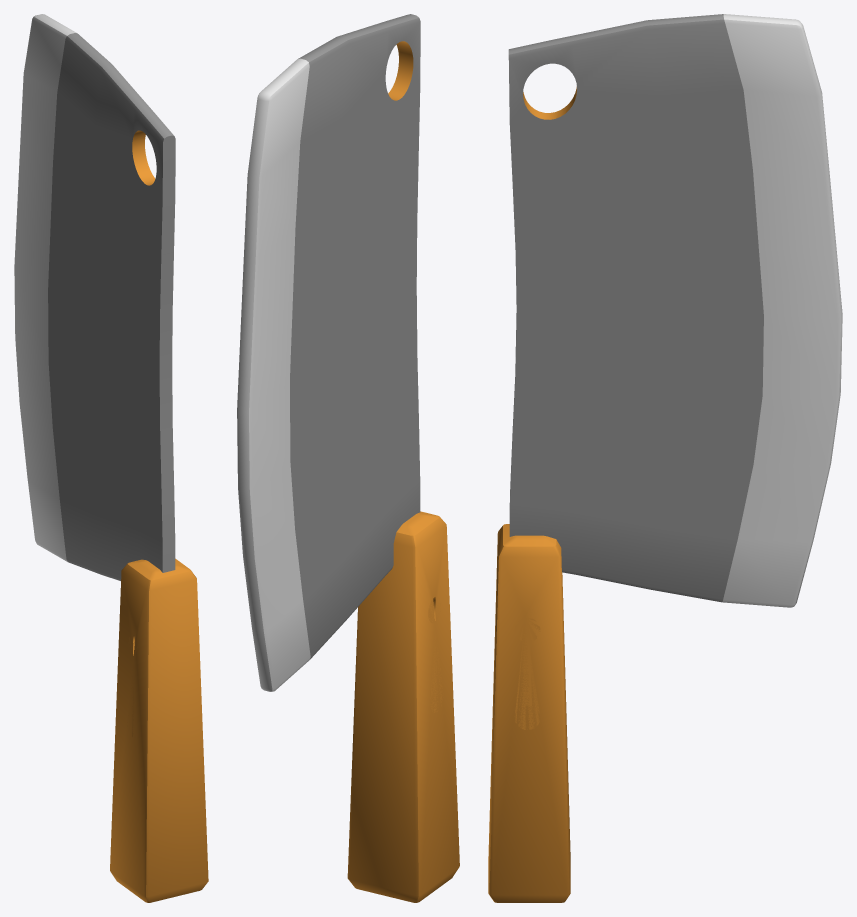
Rendered from knife.fbx.
3 views of the same model, side by side, from view 1: azimuth 30°, elevation 25°; view 2: azimuth 150°, elevation 25°; view 3: azimuth 270°, elevation 25° (orthographic). The views are drawn at different scales.
Visible parts, largest first — view 1: Cube.002; view 2: Cube.002; view 3: Cube.002.
Boxes of the visible parts, x1=… form: Cube.002: x1=14, y1=14, x2=208, y2=902; Cube.002: x1=237, y1=14, x2=459, y2=902; Cube.002: x1=488, y1=14, x2=842, y2=902.
Size of the model in its own units: 147 by 1721 by 630.
